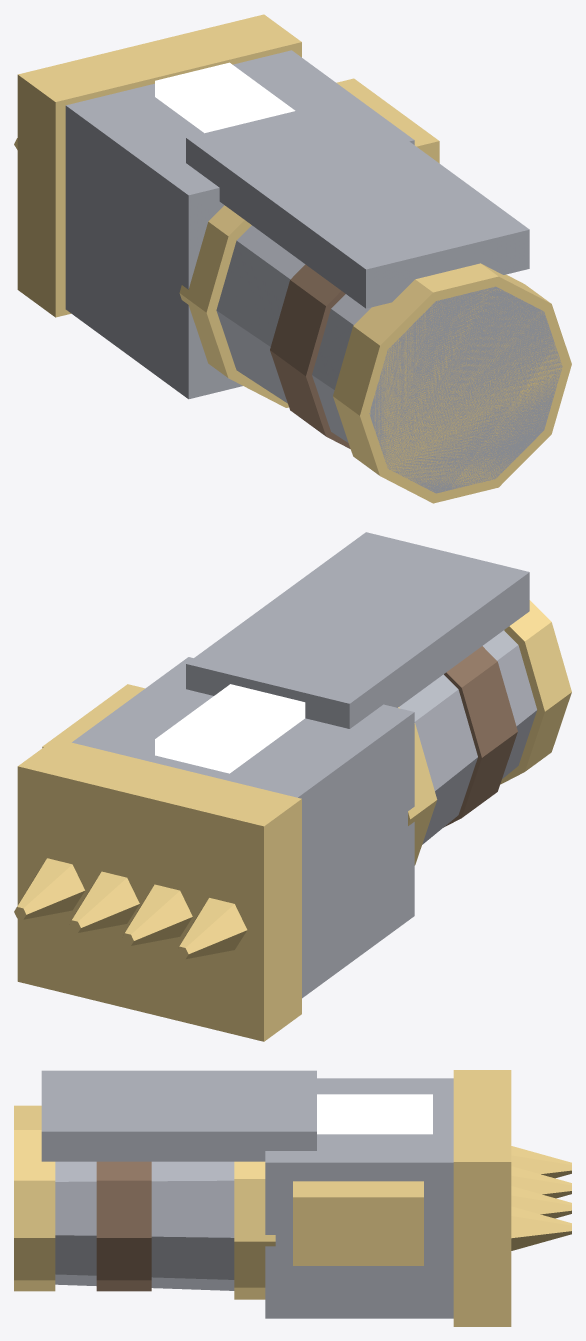
Rendered from Monk_GauntletR.fbx.
3 views of the same model, one above another, from view 1: azimuth 30°, elevation 25°; view 2: azimuth 150°, elevation 25°; view 3: azimuth 270°, elevation 25° (orthographic). The views are drawn at different scales.
Parts seen in each view (by area): view 1: Monk_GauntletR_Armor, Monk_GauntletR_BrassKnuckles, Monk_GauntletR_Straps, Monk_GauntletR_RuneDetail; view 2: Monk_GauntletR_Armor, Monk_GauntletR_BrassKnuckles, Monk_GauntletR_RuneDetail, Monk_GauntletR_Straps; view 3: Monk_GauntletR_Armor, Monk_GauntletR_BrassKnuckles, Monk_GauntletR_Straps, Monk_GauntletR_RuneDetail.
Boxes of the visible parts, x1,y1,x2,y2 form: Monk_GauntletR_Armor: (65,50,562,493); Monk_GauntletR_BrassKnuckles: (14,14,571,503); Monk_GauntletR_Straps: (270,264,350,448); Monk_GauntletR_RuneDetail: (155,62,295,133); Monk_GauntletR_Armor: (72,532,536,998); Monk_GauntletR_BrassKnuckles: (14,600,571,1041); Monk_GauntletR_RuneDetail: (155,684,305,773); Monk_GauntletR_Straps: (443,646,517,827); Monk_GauntletR_Armor: (41,1070,453,1318); Monk_GauntletR_BrassKnuckles: (14,1070,571,1326); Monk_GauntletR_Straps: (96,1161,151,1291); Monk_GauntletR_RuneDetail: (317,1094,432,1134).
Bounding box in the file's own units: 0.179 × 0.1484 × 0.405.
